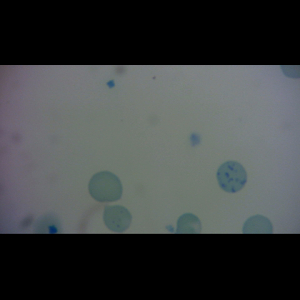aggregate reticulocyte: (216, 160, 249, 193)
erythrocyte: (87, 170, 124, 204)
punctate reticulocyte: (102, 203, 133, 233)
